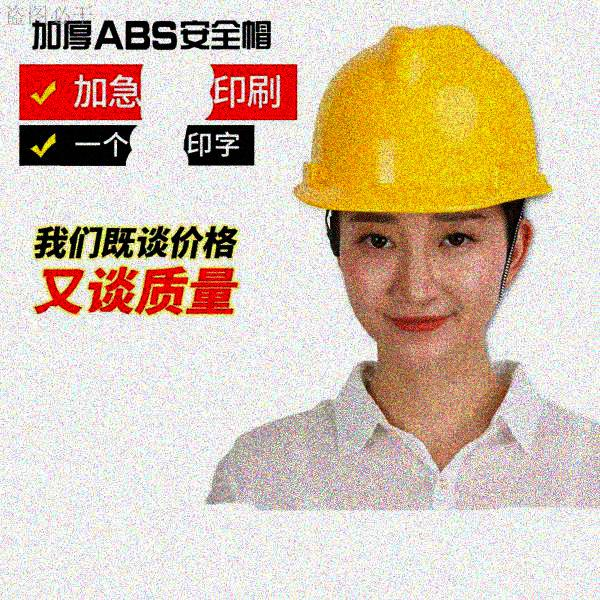helmet: (288, 23, 554, 362)
